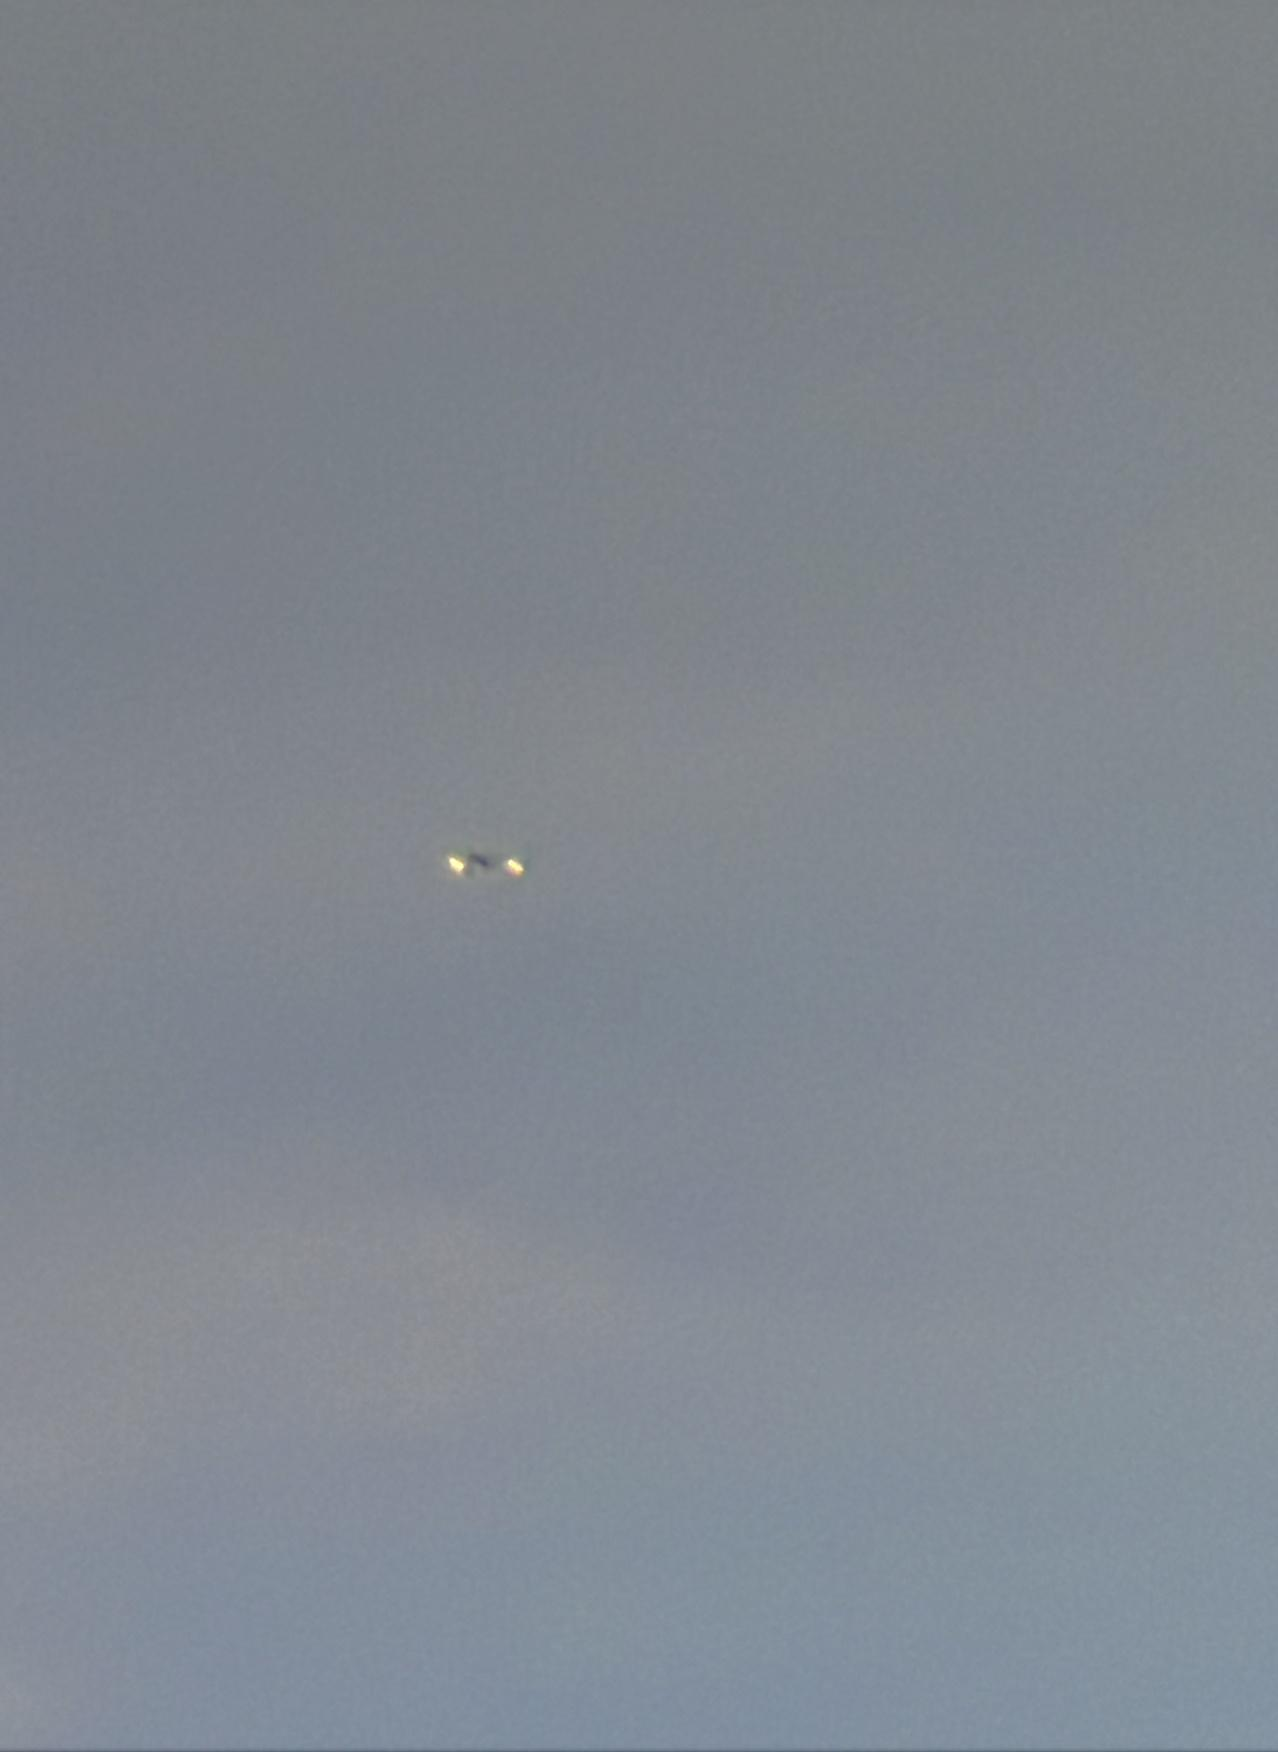Plane: (411, 808, 553, 921)
